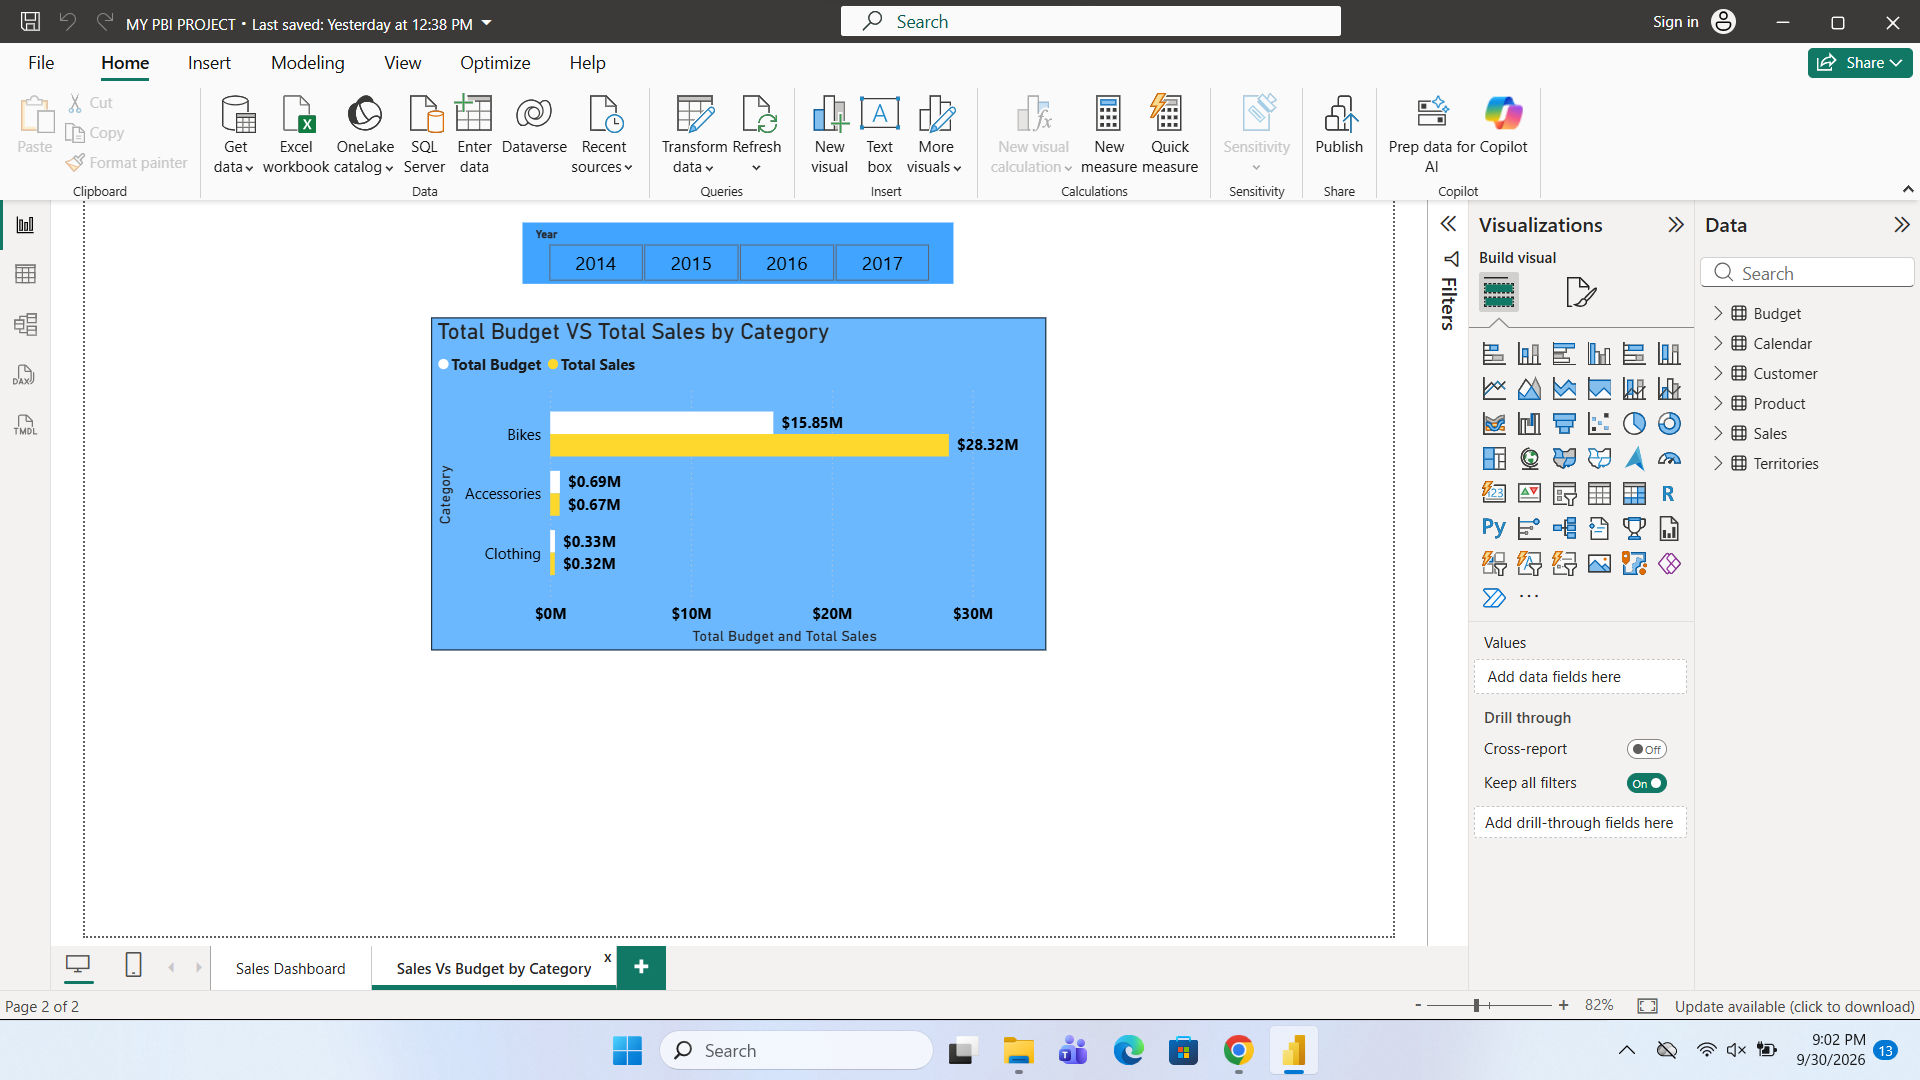

The page's visual inventory and layout, read from the dashboard file:
{"tool":"powerbi","page":{"name":"Sales Vs Budget by Category","canvas":[1280,720],"ordinal":1},"visuals":[{"type":"clusteredBarChart","title":"Total Budget VS Total Sales by Category","fields":{"Category":["Product.Category"],"Y":["Budget.Total Budget","Sales.Total Sales"]},"box":[338.7,114.9,601.6,325.3],"z":0},{"type":"slicer","fields":{"Values":["Calendar.Year"]},"box":[428,22,421.9,59.9],"z":1000}]}

Visuals, with their boxes on the page's 1280x720 design canvas (x1, y1, x2, y2). These are canvas units, not pixel positions in the 1920x1080 screenshot, which may show the page scaled, cropped or inside an application window:
"Total Budget VS Total Sales by Category" clusteredBarChart: (339,115,940,440)
slicer - Calendar.Year: (428,22,850,82)
